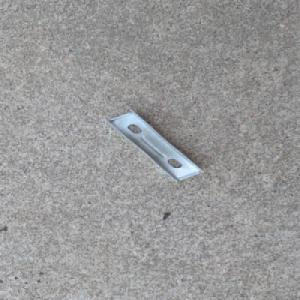ClampPart: (102, 108, 207, 183)
